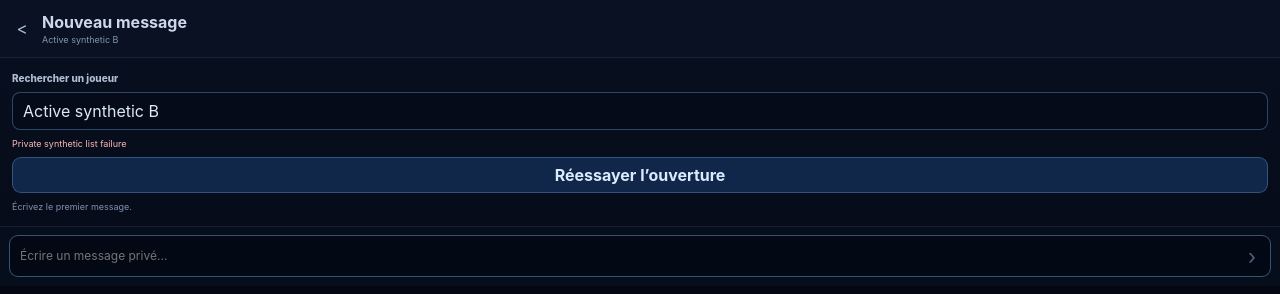
resumes an interrupted target retry on returning to the MP tab
Click the button "Réessayer l’ouverture" at point(640, 175), box 12,157 -> 1268,193
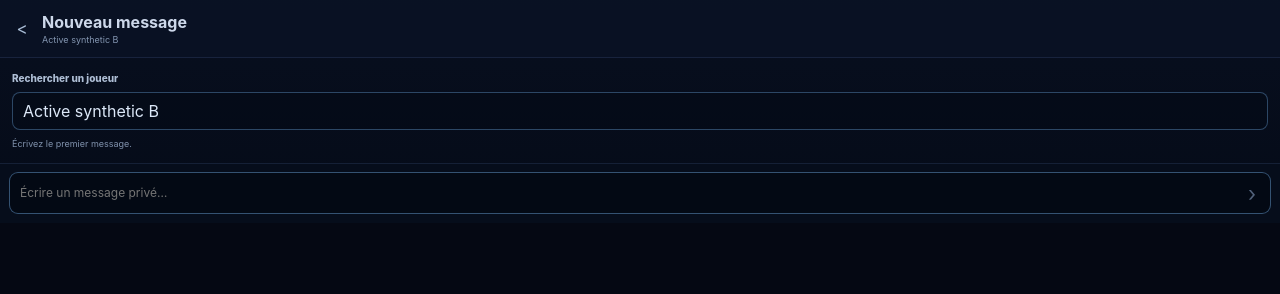
Result: the text box with id "dm-message" is enabled at 9,172 -> 1271,214
Result: the text "Réessayer l’ouverture" is gone
